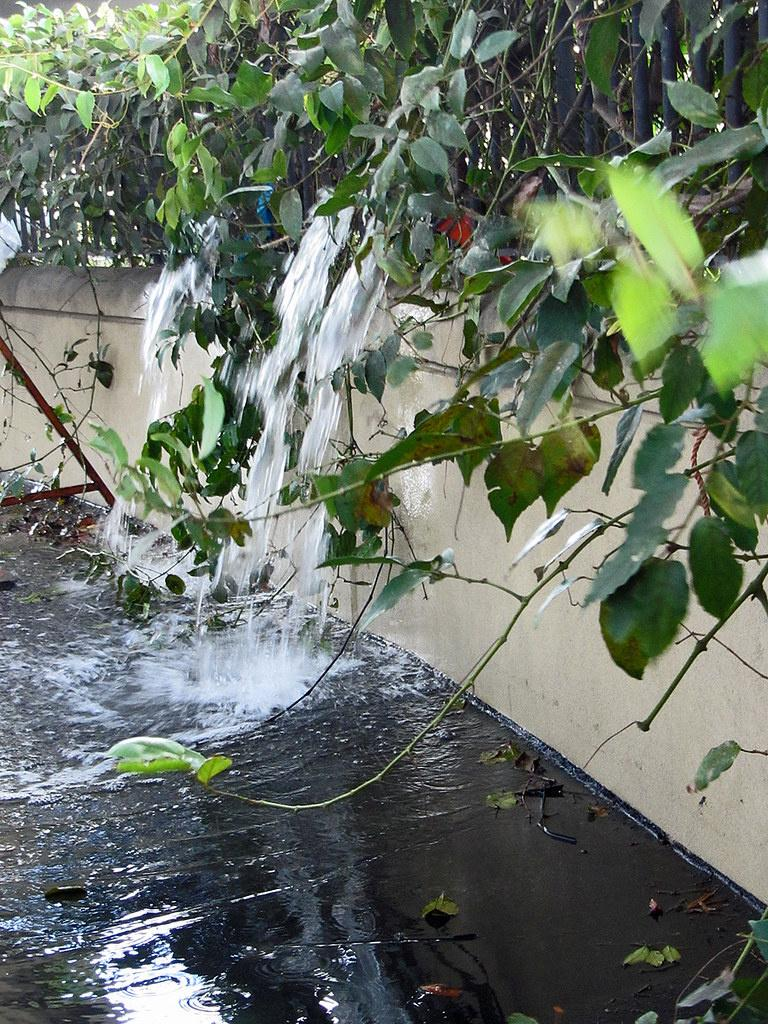water accumulation: (0, 473, 768, 1024)
